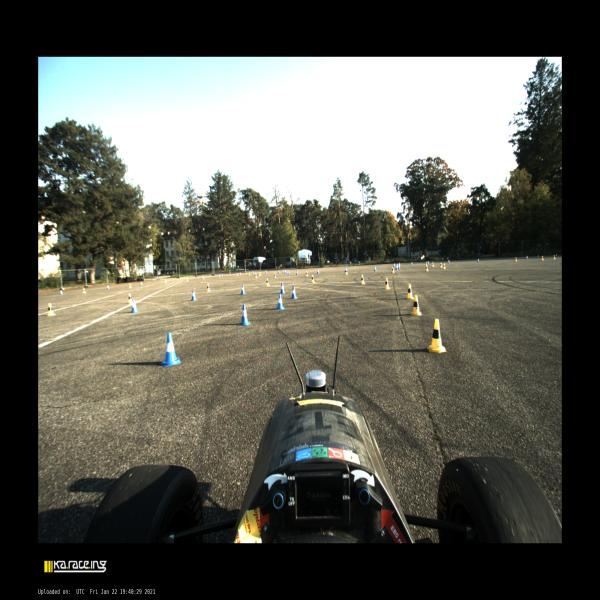blue_cone: (161, 332, 181, 366), (240, 305, 250, 325), (276, 295, 284, 309), (131, 300, 139, 312), (291, 286, 298, 299), (280, 282, 286, 294), (240, 284, 246, 295), (191, 290, 197, 301), (60, 290, 63, 295), (107, 285, 110, 289), (374, 266, 376, 272), (398, 262, 401, 266), (288, 270, 290, 275), (296, 270, 298, 275), (317, 269, 319, 274), (344, 267, 346, 272), (396, 263, 398, 268), (398, 264, 400, 269), (396, 265, 398, 270), (140, 282, 142, 286), (265, 270, 267, 274), (284, 270, 286, 274), (448, 260, 450, 264), (526, 255, 528, 259), (537, 254, 539, 258), (221, 274, 223, 277), (239, 272, 241, 275), (411, 262, 413, 265), (427, 261, 429, 264), (201, 276, 203, 278), (185, 278, 187, 280), (252, 272, 254, 274), (278, 269, 279, 273), (286, 270, 287, 274), (394, 263, 395, 267), (478, 258, 479, 262), (283, 270, 284, 273), (556, 254, 557, 256)
yellow_cone: (427, 319, 446, 352), (412, 296, 422, 315), (407, 284, 414, 299), (48, 303, 56, 316), (310, 274, 316, 284), (385, 278, 390, 289), (206, 283, 212, 292), (361, 275, 366, 284), (265, 278, 270, 287), (128, 293, 132, 303), (443, 263, 446, 269), (345, 268, 348, 274), (515, 257, 518, 262), (83, 288, 86, 293), (426, 265, 428, 272), (553, 255, 556, 259), (440, 262, 442, 268), (392, 267, 394, 273), (164, 280, 167, 284), (129, 284, 132, 288), (432, 262, 434, 267), (425, 261, 427, 266), (306, 271, 308, 276), (274, 273, 276, 278), (255, 273, 257, 278), (542, 256, 544, 260), (248, 272, 250, 276), (236, 272, 238, 276), (219, 274, 221, 278), (186, 278, 188, 282), (260, 271, 261, 275), (259, 273, 260, 276), (203, 276, 204, 279)
